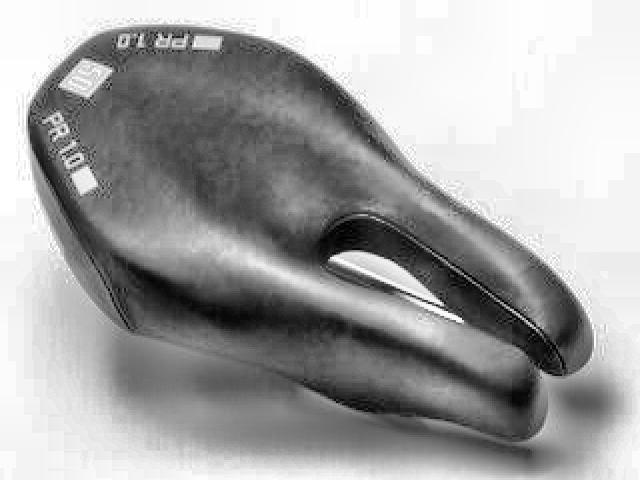saddle: (22, 23, 601, 449)
